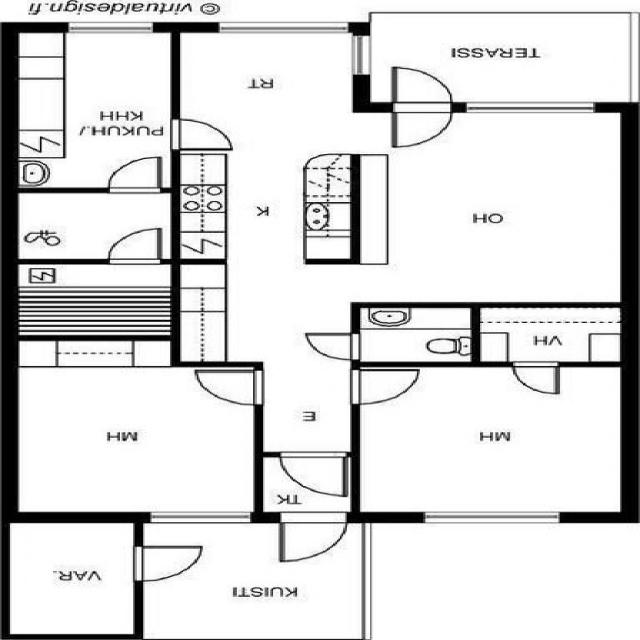door: (282, 512, 344, 560), (392, 67, 452, 112), (392, 102, 452, 147), (280, 452, 344, 494), (352, 369, 420, 404), (133, 546, 199, 580), (198, 372, 264, 404), (107, 227, 160, 264), (170, 118, 231, 148), (109, 158, 158, 192), (517, 362, 565, 396), (304, 331, 362, 359)
